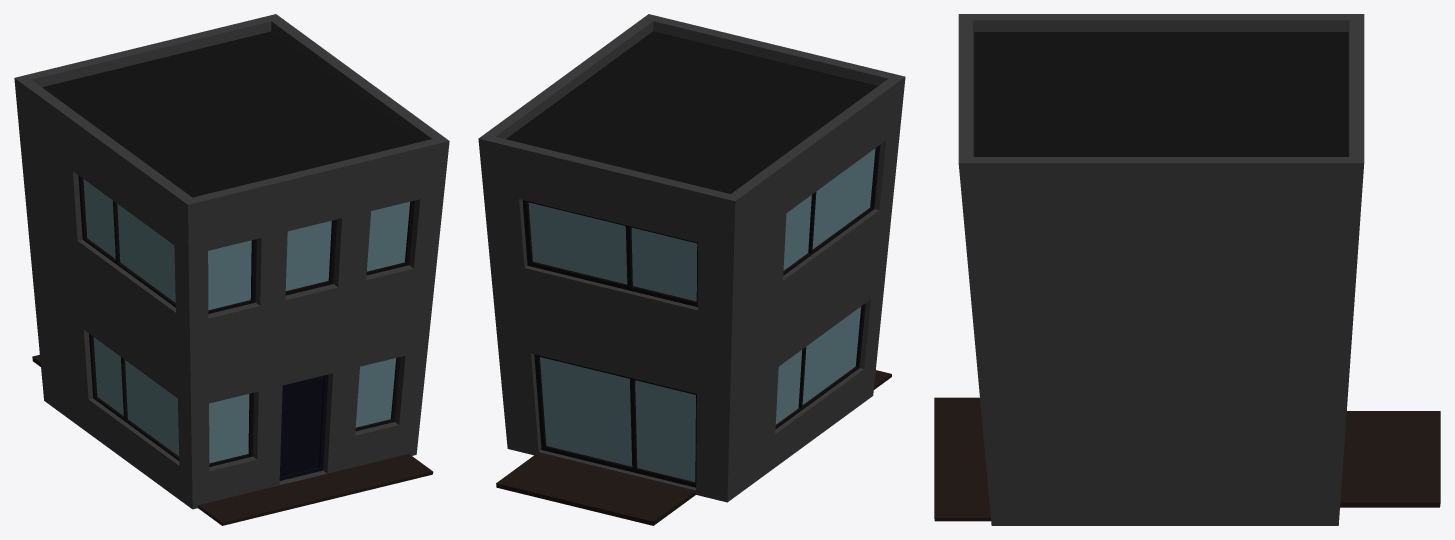
File: BuildingResident6.fbx
3 views of the same model, side by side, from view 1: azimuth 30°, elevation 25°; view 2: azimuth 150°, elevation 25°; view 3: azimuth 270°, elevation 25° (orthographic). The views are drawn at different scales.
Visible parts, largest first — view 1: BuildingResident6; view 2: BuildingResident6; view 3: BuildingResident6.
Boxes of the visible parts, left/top/right/bottom form: BuildingResident6: left=14, top=14, right=449, bottom=525; BuildingResident6: left=478, top=14, right=905, bottom=525; BuildingResident6: left=934, top=14, right=1440, bottom=525.
Bounding box in the file's own units: 15.93 × 18.59 × 22.83.
